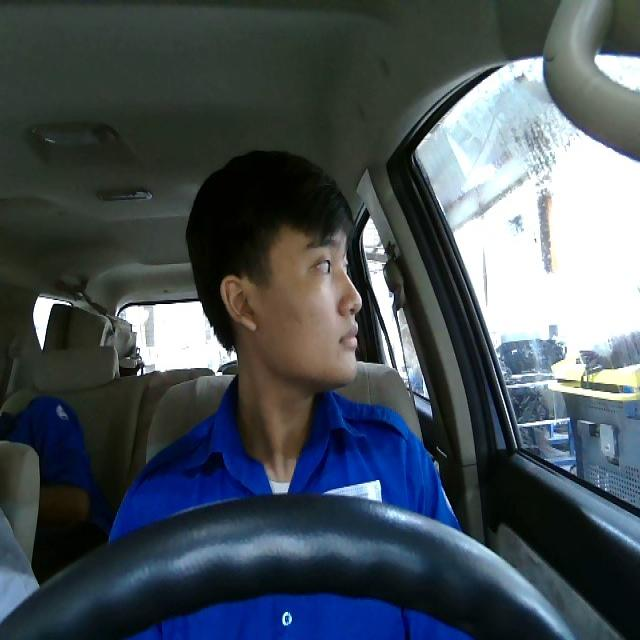seeing_right: (216, 219, 364, 388)
